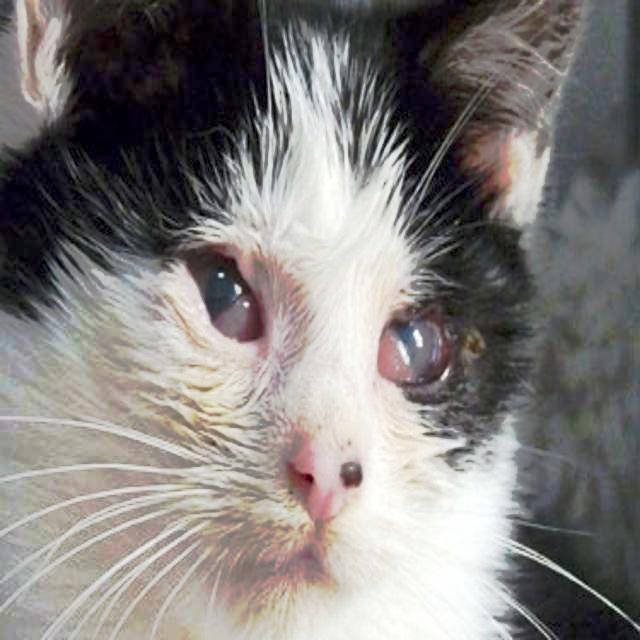eye_infection: (176, 236, 274, 346), (372, 309, 467, 399)
